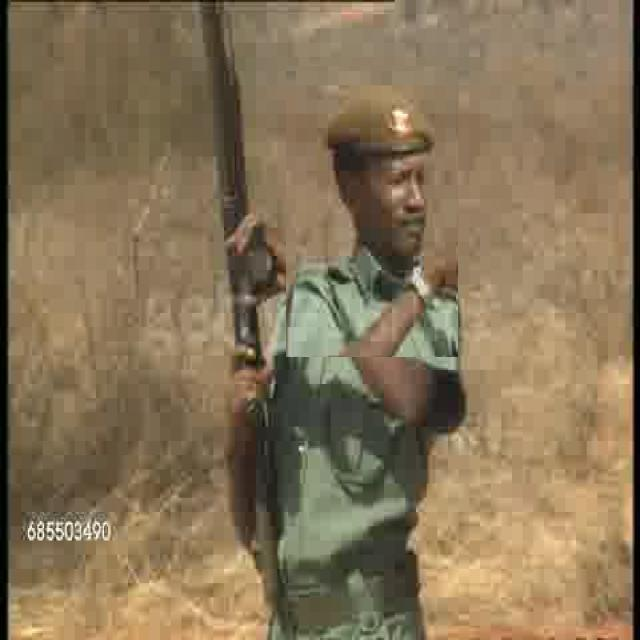poacher: (286, 66, 458, 357)
weapon: (190, 1, 284, 606)
